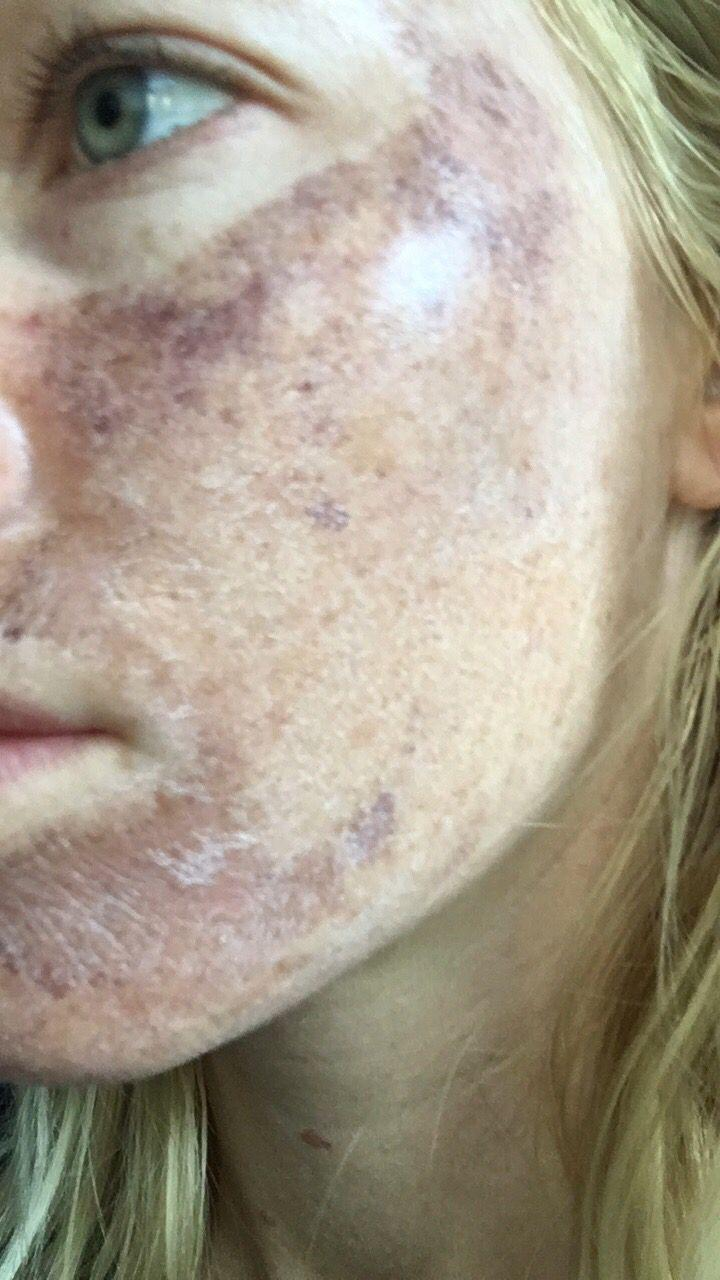Dry-Skin: (377, 102, 591, 236), (102, 327, 311, 439), (12, 832, 158, 943), (242, 857, 471, 923), (87, 647, 248, 719)
